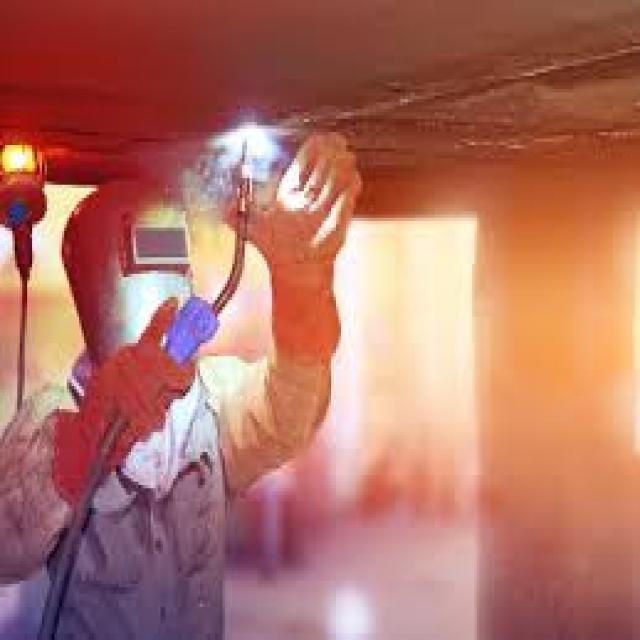welding: (227, 124, 270, 157)
